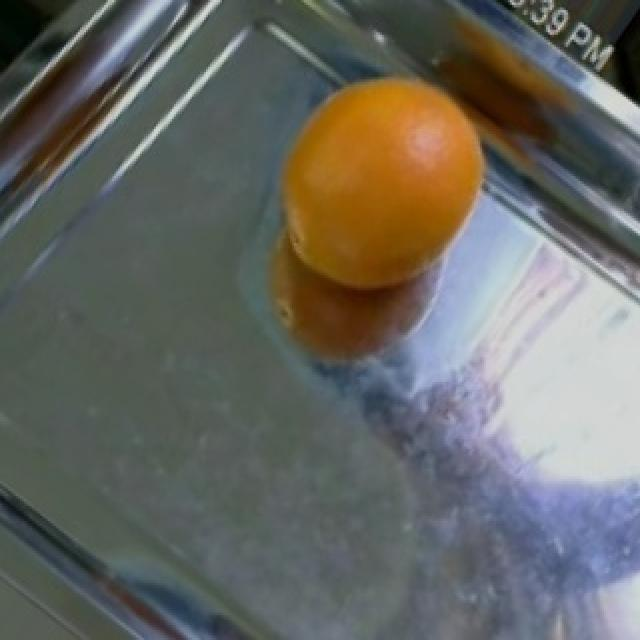Fruit: (258, 55, 506, 318)
